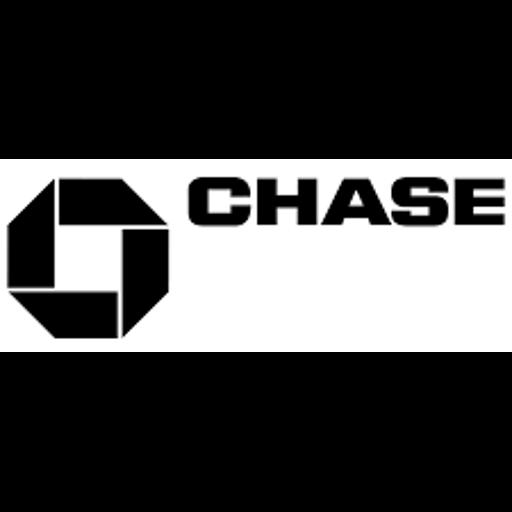Chase Personal Banking: (0, 159, 512, 352)
